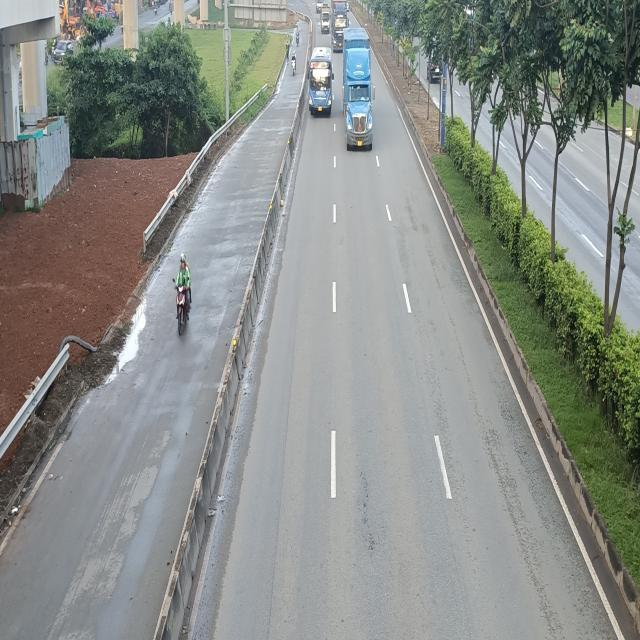coach: (308, 46, 334, 117)
container: (342, 26, 375, 150)
